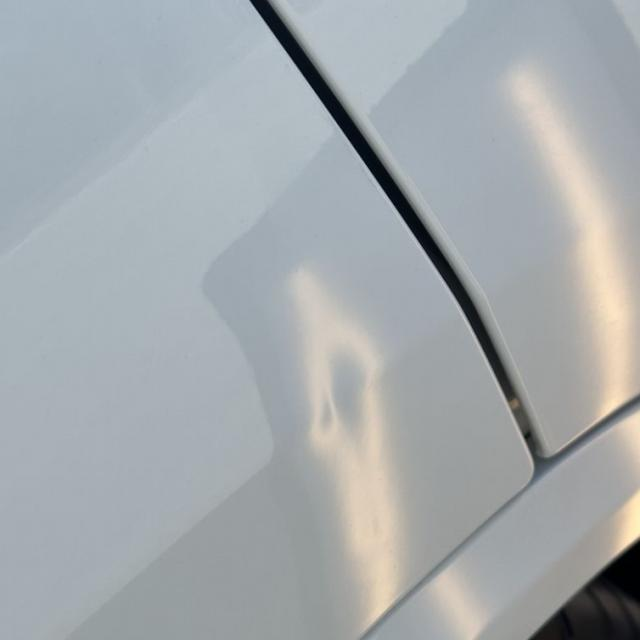dents: (266, 318, 411, 461)
